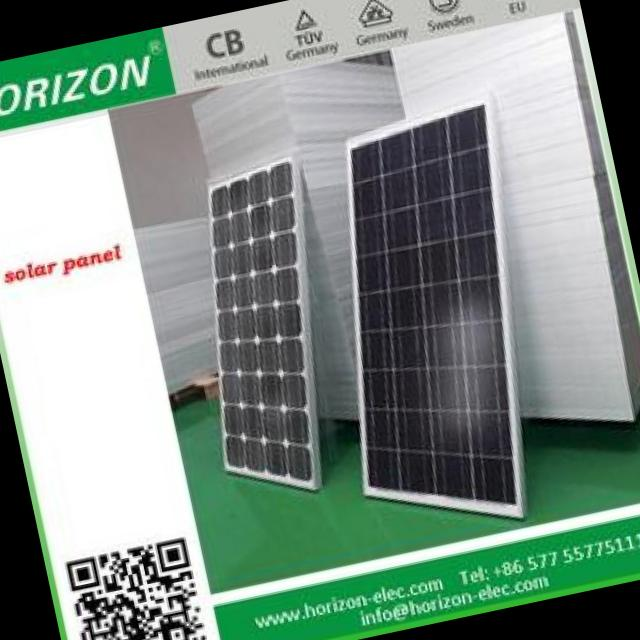faulty: (215, 170, 312, 478)
no faulty: (351, 110, 514, 502)
